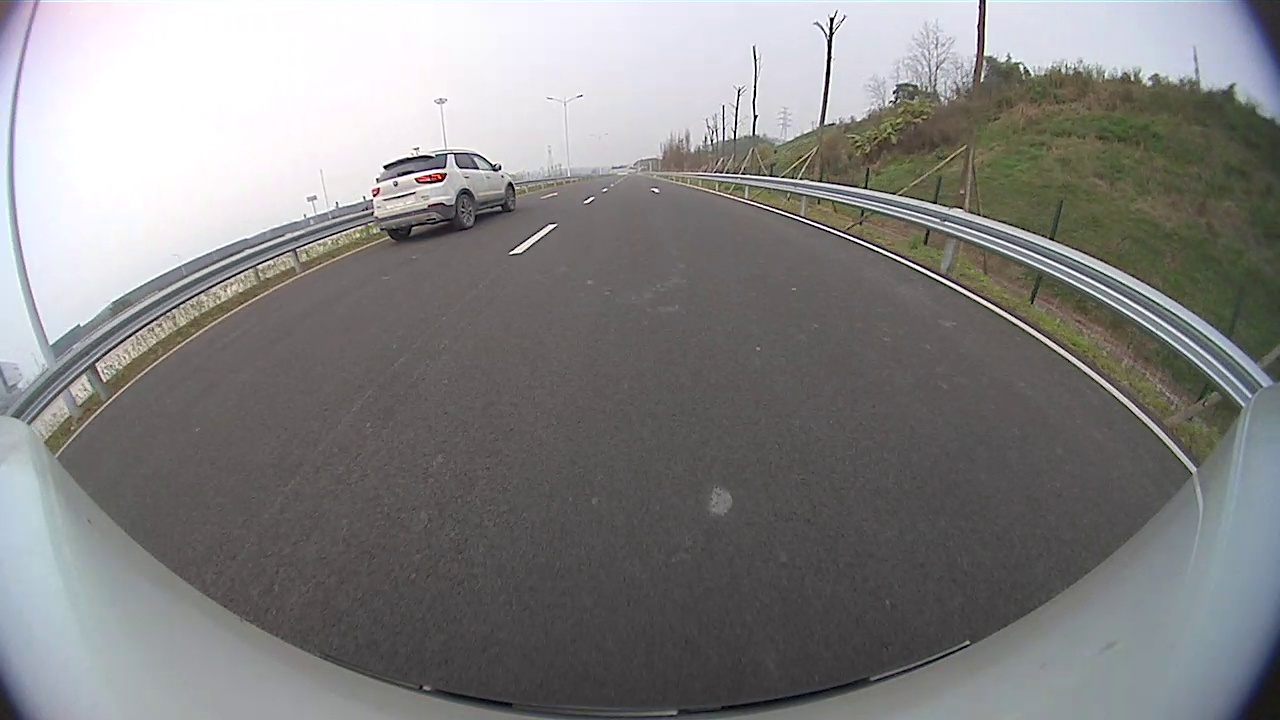car: (372, 149, 517, 241)
front: (501, 185, 517, 214)
rear: (452, 192, 477, 231)
